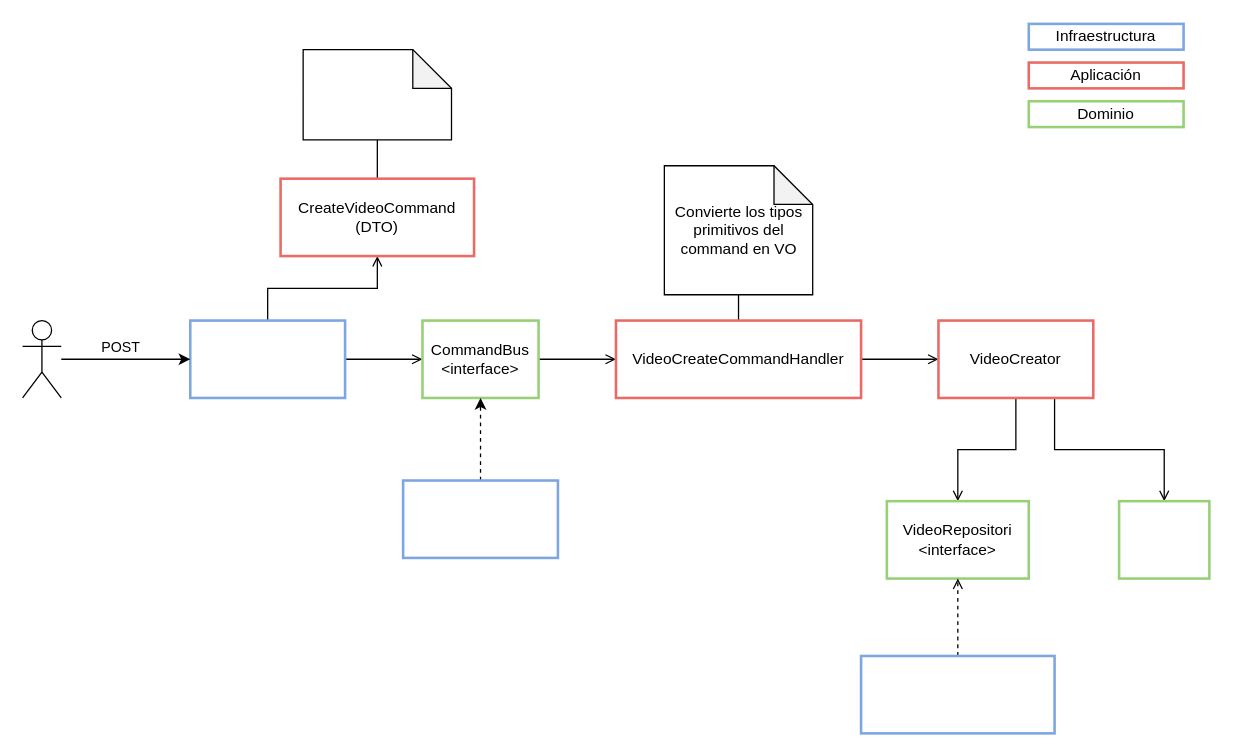
The diagram is 1233 pixels wide and 756 high, and some of its shapes have lost their labels. The shapes that lost their labels are listed below. From the top down, each one's box as (x1, y1, x2, y2) in pixels, then its label:
(302, 48, 452, 140): Tipos primitivos
(188, 319, 346, 399): VideoPostController
(401, 479, 559, 559): SyncCommandBus
(1117, 499, 1210, 579): Video
(859, 654, 1055, 734): MySqlVideoRepository
